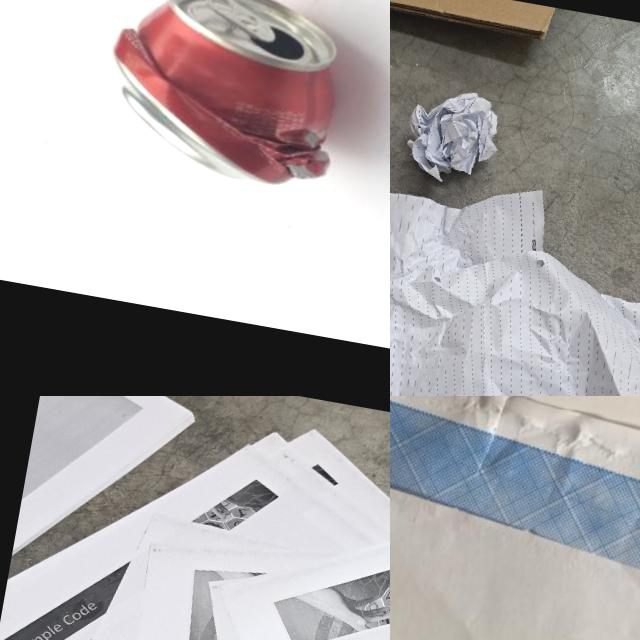aba de lata: (197, 0, 282, 43)
lata: (96, 0, 361, 192)
papel: (0, 396, 390, 640), (390, 134, 640, 396), (390, 396, 640, 640), (8, 396, 201, 592), (399, 77, 504, 184)
papelão: (390, 0, 560, 51)
